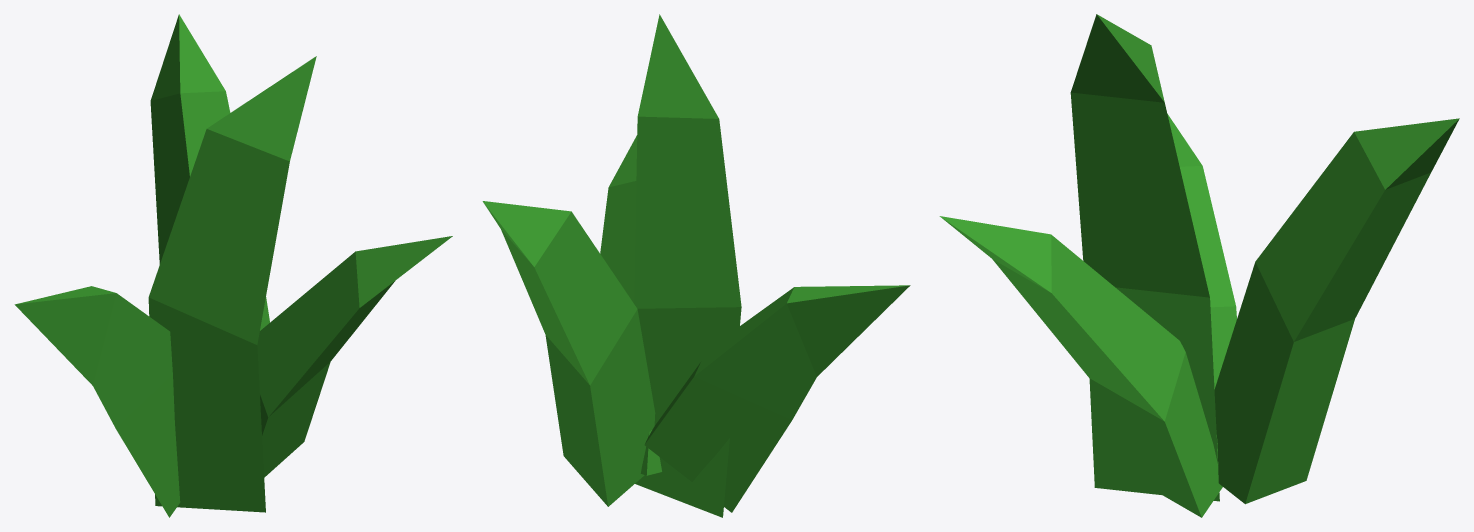
File: grass.glb
The picture shows the model from 3 angles, left to right: view 1: azimuth 30°, elevation 25°; view 2: azimuth 150°, elevation 25°; view 3: azimuth 270°, elevation 25°; orthographic projection. The views are drawn at different scales.
Parts seen in each view (by area): view 1: GrassBunch5; view 2: GrassBunch5; view 3: GrassBunch5.
Boxes of the visible parts, bbox=[...] form: GrassBunch5: bbox=[14, 14, 452, 517]; GrassBunch5: bbox=[482, 14, 910, 517]; GrassBunch5: bbox=[939, 14, 1459, 517].
Bounding box in the file's own units: 0.7216 × 0.9009 × 0.8132.
